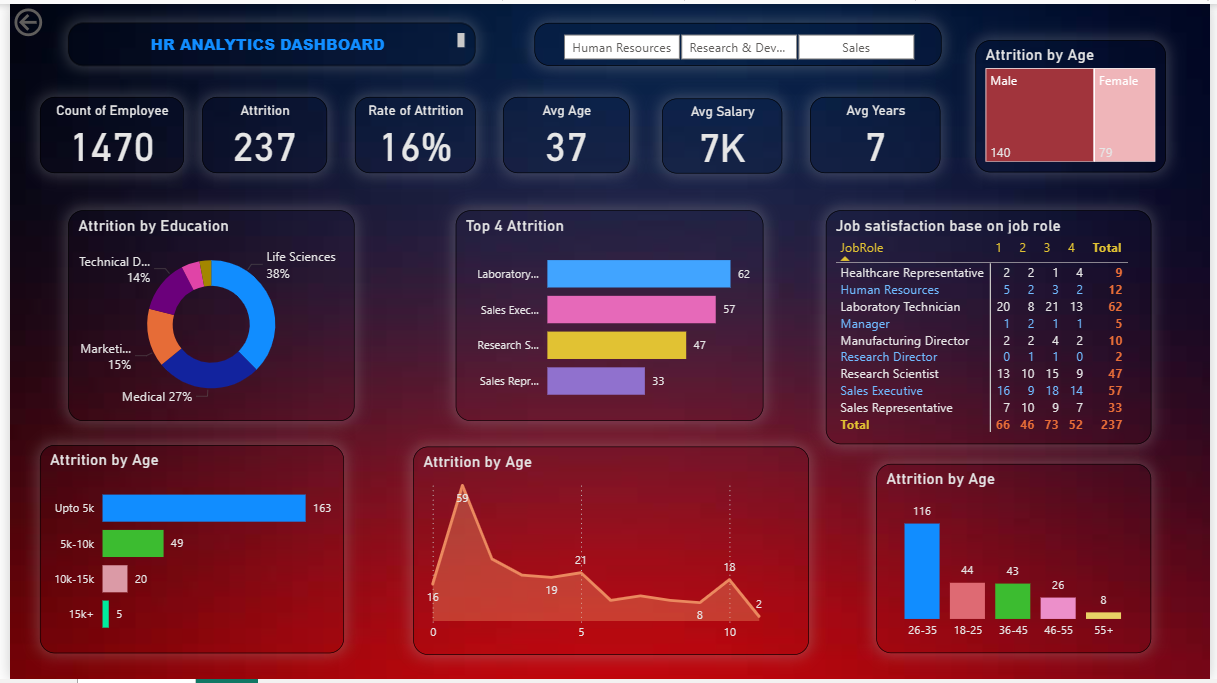

The dashboard page shown, as its layout file describes it:
{"tool":"powerbi","page":{"name":"Page 1","canvas":[1280,720],"ordinal":0},"visuals":[{"type":"card","title":"Count of Employee","fields":{"Values":["CountNonNull(HR_Analytics.EmpID)"]},"box":[31.2,99.8,153.8,81.1],"z":0},{"type":"card","title":"Attrition","fields":{"Values":["Sum(HR_Analytics.AttritionCount)"]},"box":[205.8,99.8,133,81.1],"z":1000},{"type":"card","title":"Rate of Attrition","fields":{"Values":["HR_Analytics.AttritionRate"]},"box":[367.9,99.8,128.9,81.1],"z":2000},{"type":"card","title":"Avg Age","fields":{"Values":["Avg(HR_Analytics.Age)"]},"box":[525.9,99.8,135.1,81.1],"z":3000},{"type":"card","title":"Avg Salary","fields":{"Values":["Avg(HR_Analytics.MonthlyIncome)"]},"box":[695,100,128.3,80],"z":4000},{"type":"card","title":"Avg Years","fields":{"Values":["Avg(HR_Analytics.YearsAtCompany)"]},"box":[854.3,99.8,139.3,81.1],"z":5000},{"type":"donutChart","title":"Attrition by Education","fields":{"Category":["HR_Analytics.EducationField"],"Y":["Sum(HR_Analytics.AttritionCount)"]},"box":[62.4,220.3,305.6,224.5],"z":6000},{"type":"columnChart","title":"Attrition by Age","fields":{"Category":["HR_Analytics.AgeGroup"],"Y":["Sum(HR_Analytics.AttritionCount)"]},"box":[925,490.6,293.1,201.6],"z":7000},{"type":"pivotTable","title":"Job satisfaction base on job role","fields":{"Rows":["HR_Analytics.JobRole"],"Values":["Sum(HR_Analytics.AttritionCount)"],"Columns":["HR_Analytics.JobSatisfaction"]},"box":[870.9,220.3,347.1,249.4],"z":8000},{"type":"actionButton","box":[0,0,99.8,39.5],"z":9000},{"type":"barChart","title":"Attrition by Age","fields":{"Category":["HR_Analytics.SalarySlab"],"Y":["Sum(HR_Analytics.AttritionCount)"]},"box":[31.2,469.8,324.3,222.4],"z":10000},{"type":"barChart","title":"Top 4 Attrition ","fields":{"Y":["Sum(HR_Analytics.AttritionCount)"],"Category":["HR_Analytics.JobRole"]},"box":[476,220.3,328.4,224.5],"z":11000},{"type":"areaChart","title":"Attrition by Age","fields":{"Category":["HR_Analytics.YearsAtCompany"],"Y":["Sum(HR_Analytics.AttritionCount)"]},"box":[430.3,471.8,422,222.4],"z":12000},{"type":"treemap","title":"Attrition by Age","fields":{"Group":["HR_Analytics.Gender"],"Values":["Sum(HR_Analytics.AttritionCount)"]},"box":[1029.3,39.4,203.4,141.1],"z":13000},{"type":"slicer","fields":{"Values":["HR_Analytics.Department"]},"box":[559.1,20.8,434.4,45.7],"z":14000},{"type":"textbox","box":[62.4,20.8,434.4,45.7],"z":16000}]}

Visuals, with their boxes in screenshot pixels (x1, y1, x2, y2), scaled from the page's 1280x720 canvas onto the 1217x683 screenshot:
"Count of Employee" card: x1=30, y1=95, x2=176, y2=172
"Attrition" card: x1=196, y1=95, x2=322, y2=172
"Rate of Attrition" card: x1=350, y1=95, x2=472, y2=172
"Avg Age" card: x1=500, y1=95, x2=628, y2=172
"Avg Salary" card: x1=661, y1=95, x2=783, y2=171
"Avg Years" card: x1=812, y1=95, x2=945, y2=172
"Attrition by Education" donutChart: x1=59, y1=209, x2=350, y2=422
"Attrition by Age" columnChart: x1=879, y1=465, x2=1158, y2=657
"Job satisfaction base on job role" pivotTable: x1=828, y1=209, x2=1158, y2=446
actionButton: x1=0, y1=0, x2=95, y2=37
"Attrition by Age" barChart: x1=30, y1=446, x2=338, y2=657
"Top 4 Attrition " barChart: x1=453, y1=209, x2=765, y2=422
"Attrition by Age" areaChart: x1=409, y1=448, x2=810, y2=659
"Attrition by Age" treemap: x1=979, y1=37, x2=1172, y2=171
slicer - HR_Analytics.Department: x1=532, y1=20, x2=945, y2=63
textbox: x1=59, y1=20, x2=472, y2=63
